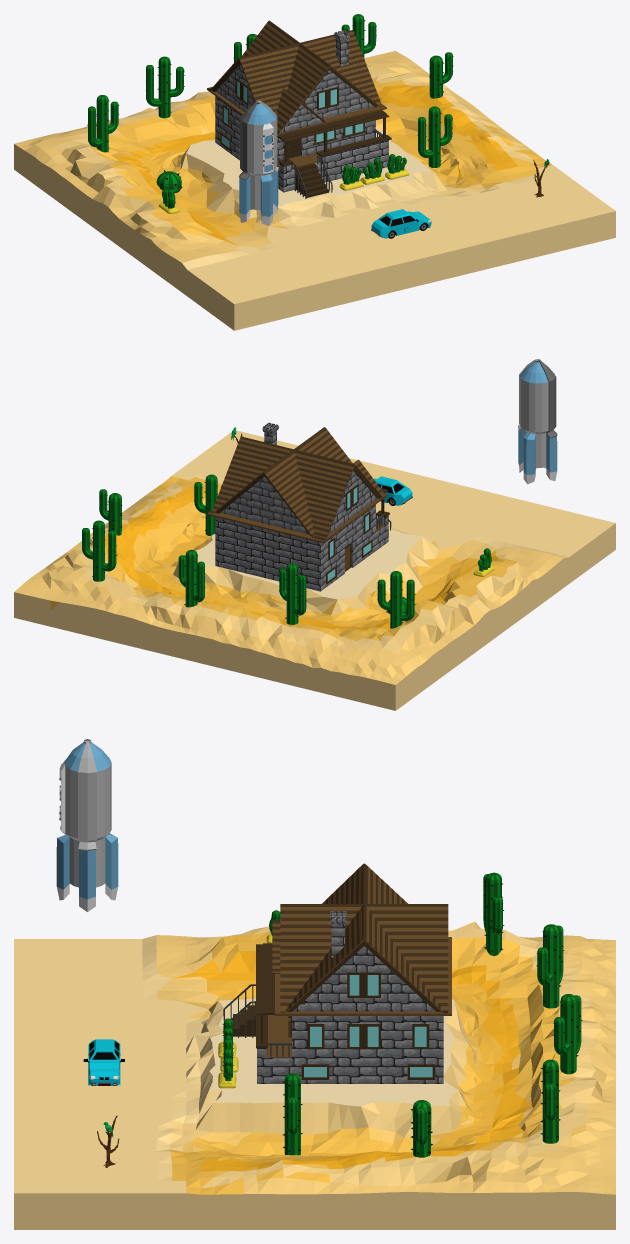
The picture shows the model from 3 angles, top to bottom: view 1: azimuth 30°, elevation 25°; view 2: azimuth 150°, elevation 25°; view 3: azimuth 270°, elevation 25°; orthographic projection. The views are drawn at different scales.
Visible parts, largest first — view 1: Cube.001, Cube.586, OBJRANDOM_ROCKETSHIP, Cylinder.044, Cylinder.037, Cylinder.045, VEHICLES_CAR, Cylinder.038, Cylinder.042, Cylinder.041, Cylinder.039, Sphere.023; view 2: Cube.001, Cube.586, OBJRANDOM_ROCKETSHIP, Cylinder.045, Cylinder.042, Cylinder.044, Cylinder.043, Cylinder.037, Cylinder.038, VEHICLES_CAR; view 3: Cube.001, Cube.586, OBJRANDOM_ROCKETSHIP, Cylinder.044, Cylinder.043, VEHICLES_CAR, Cylinder.045, Cylinder.042, Cylinder.037, Cylinder.038.
Boxes of the visible parts, left/top/right/bottom form: Cube.001: left=14, top=50, right=615, bottom=330; Cube.586: left=207, top=20, right=391, bottom=198; OBJRANDOM_ROCKETSHIP: left=239, top=100, right=278, bottom=225; Cylinder.044: left=146, top=56, right=184, bottom=118; Cylinder.037: left=417, top=106, right=452, bottom=167; Cylinder.045: left=87, top=95, right=119, bottom=152; VEHICLES_CAR: left=371, top=209, right=431, bottom=238; Cylinder.038: left=429, top=52, right=453, bottom=98; Cylinder.042: left=341, top=14, right=376, bottom=58; Cylinder.041: left=385, top=154, right=409, bottom=179; Cylinder.039: left=339, top=165, right=363, bottom=190; Sphere.023: left=156, top=170, right=182, bottom=192; Cube.001: left=14, top=430, right=615, bottom=710; Cube.586: left=207, top=422, right=391, bottom=591; OBJRANDOM_ROCKETSHIP: left=518, top=359, right=557, bottom=484; Cylinder.045: left=377, top=571, right=415, bottom=628; Cylinder.042: left=82, top=520, right=117, bottom=581; Cylinder.044: left=279, top=563, right=306, bottom=624; Cylinder.043: left=178, top=549, right=205, bottom=607; Cylinder.037: left=194, top=474, right=221, bottom=535; Cylinder.038: left=99, top=489, right=122, bottom=535; VEHICLES_CAR: left=374, top=476, right=412, bottom=505; Cube.001: left=14, top=921, right=615, bottom=1229; Cube.586: left=223, top=863, right=451, bottom=1083; OBJRANDOM_ROCKETSHIP: left=56, top=739, right=118, bottom=911; Cylinder.044: left=536, top=924, right=564, bottom=1008; Cylinder.043: left=553, top=994, right=582, bottom=1074; VEHICLES_CAR: left=83, top=1039, right=124, bottom=1085; Cylinder.045: left=483, top=872, right=504, bottom=955; Cylinder.042: left=540, top=1059, right=560, bottom=1143; Cylinder.037: left=282, top=1073, right=302, bottom=1155; Cylinder.038: left=410, top=1100, right=432, bottom=1157.
Size of the model in its own units: 4002 by 2059 by 4001.
33 materials, 3 textured.
